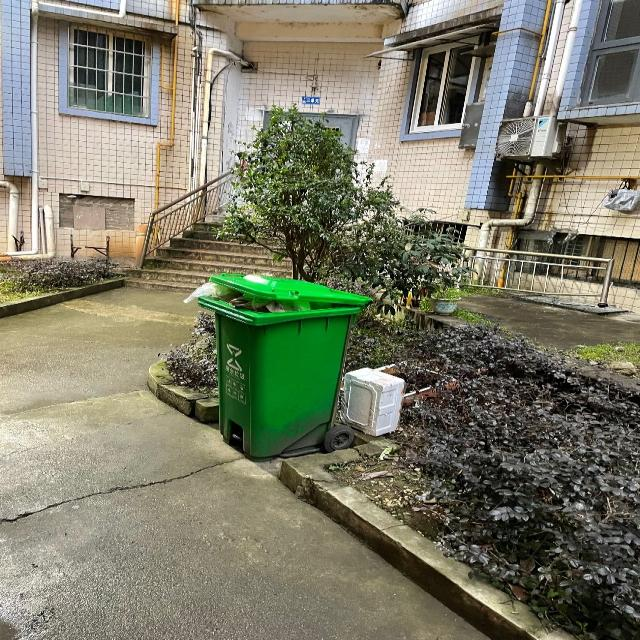overflow: (179, 272, 373, 463)
